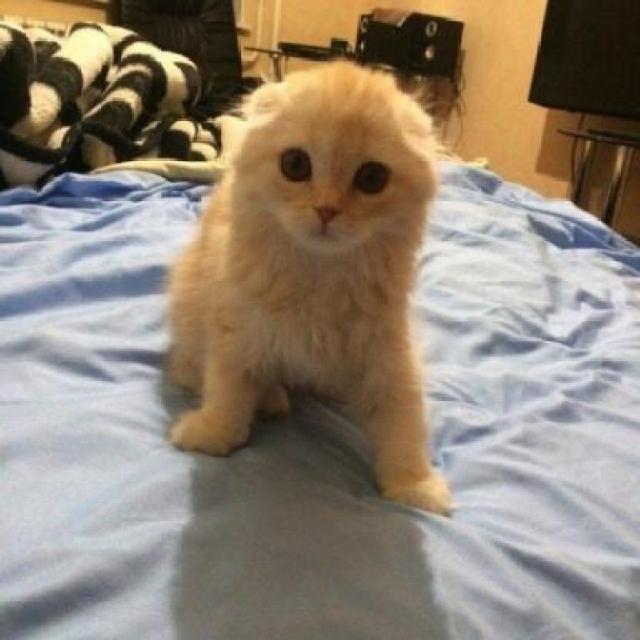cat: (162, 68, 473, 520)
